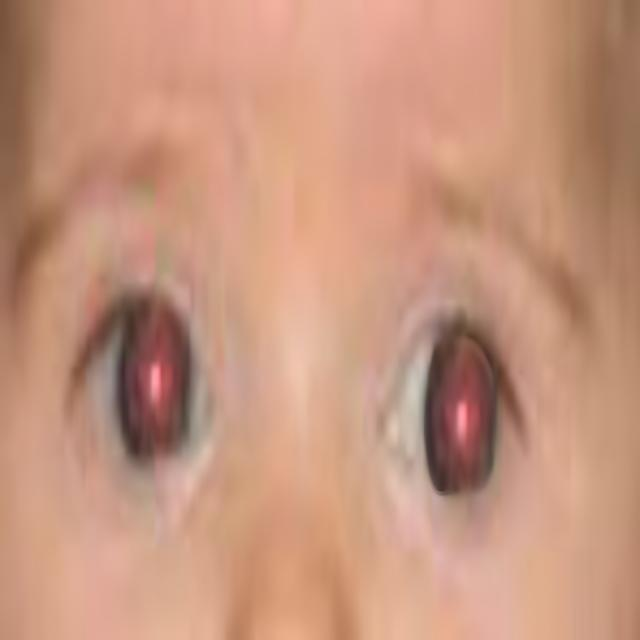reflexo-normal: (393, 282, 522, 538), (94, 254, 209, 487)
